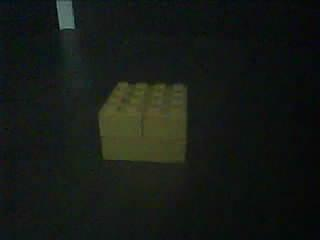lego: (97, 79, 187, 163)
